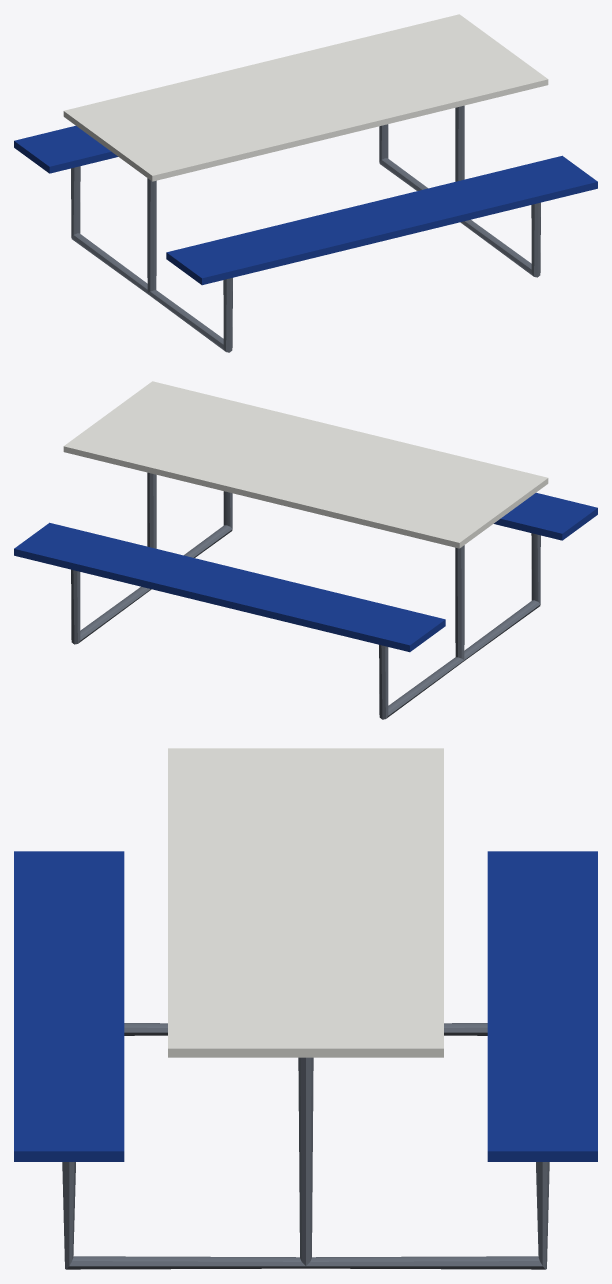
File: furniture.table.canteen.glb
The picture shows the model from 3 angles, top to bottom: view 1: azimuth 30°, elevation 25°; view 2: azimuth 150°, elevation 25°; view 3: azimuth 270°, elevation 25°; orthographic projection. The views are drawn at different scales.
Visible parts, largest first — view 1: main__laminate_white, main__plastic_blue, main__steel_painted; view 2: main__laminate_white, main__plastic_blue, main__steel_painted; view 3: main__laminate_white, main__plastic_blue, main__steel_painted.
Part boxes in pixels (x1,y1,x2,y2): main__laminate_white: (63, 14, 548, 181); main__plastic_blue: (14, 125, 597, 285); main__steel_painted: (71, 105, 540, 352); main__laminate_white: (63, 381, 548, 548); main__plastic_blue: (14, 492, 597, 652); main__steel_painted: (71, 472, 540, 719); main__laminate_white: (168, 748, 443, 1057); main__plastic_blue: (14, 851, 597, 1161); main__steel_painted: (62, 1023, 549, 1269).
Bounding box in the file's own units: 1.8 × 0.7094 × 1.48.
